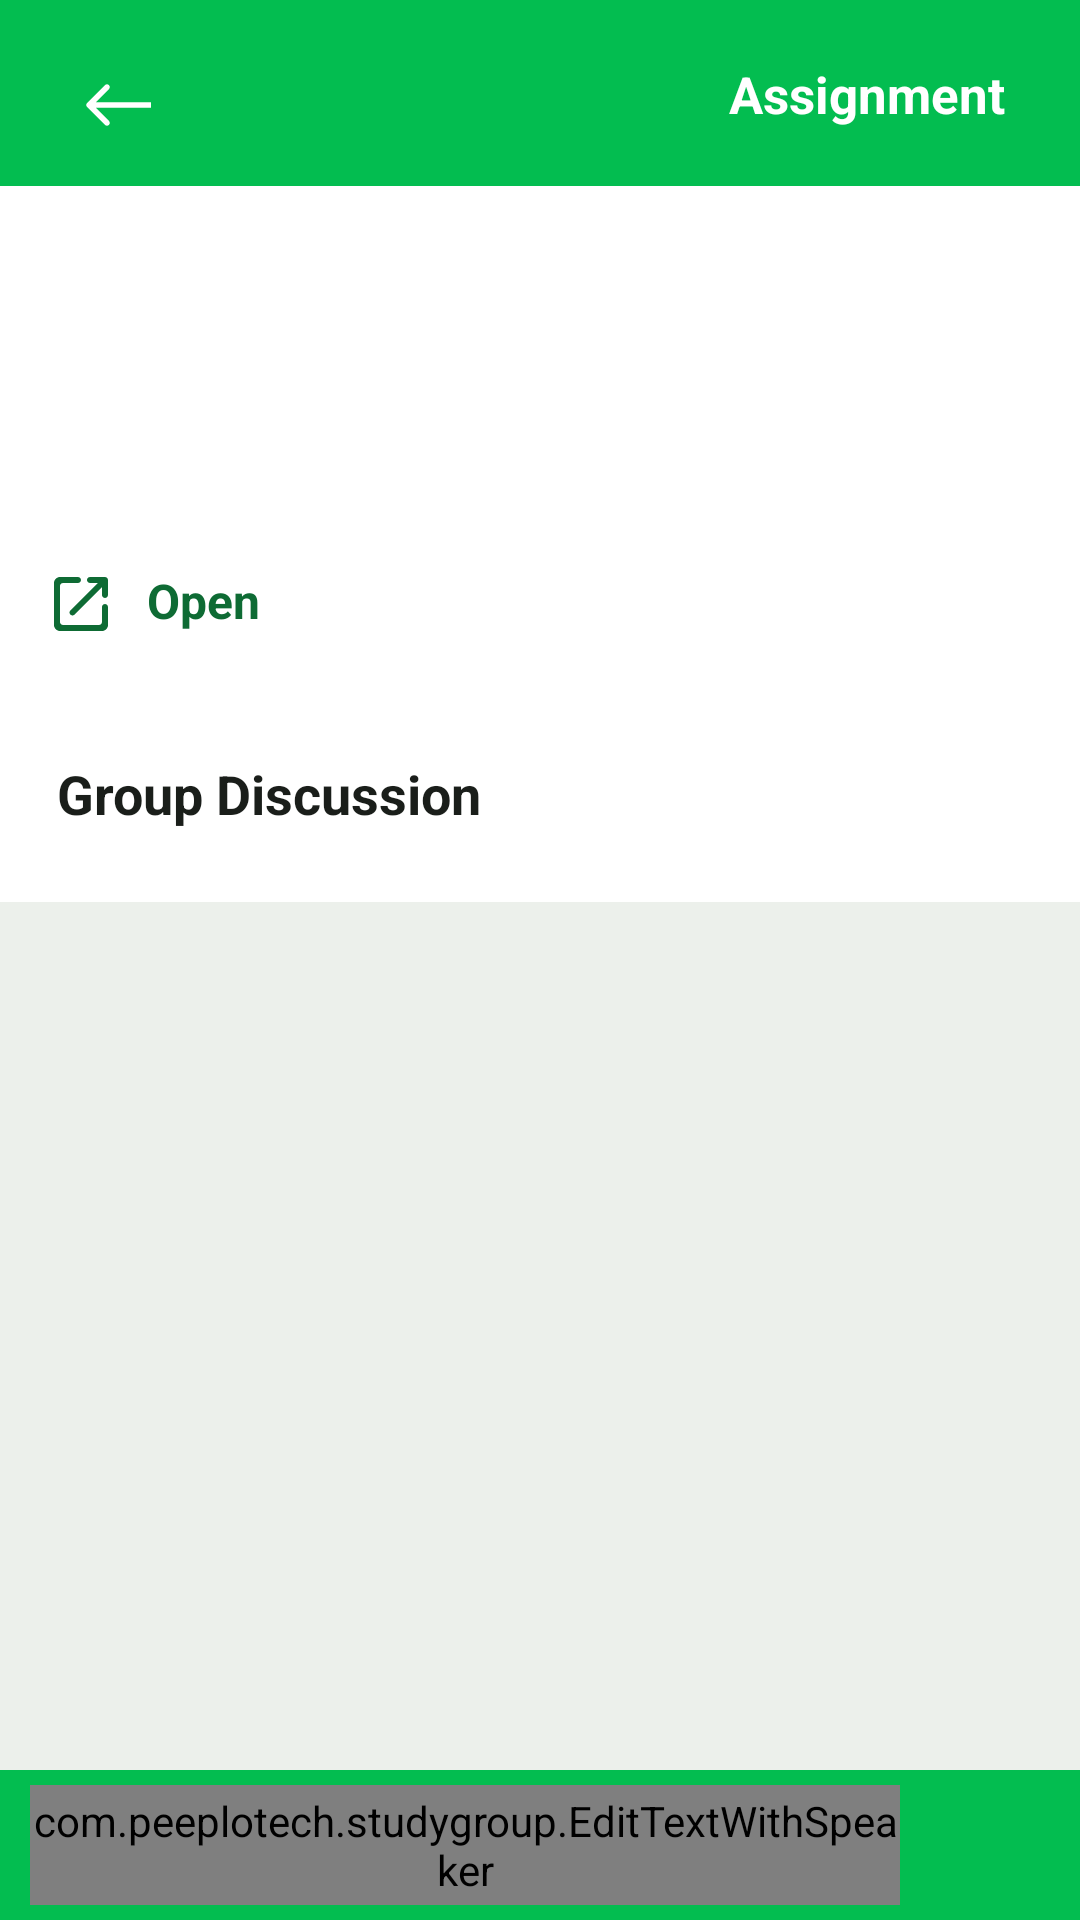

Icon bounding boxes for this 1080 x 1920 phone screenshot, format [x1, y1, x2, y2]:
back: [86, 84, 151, 126]
